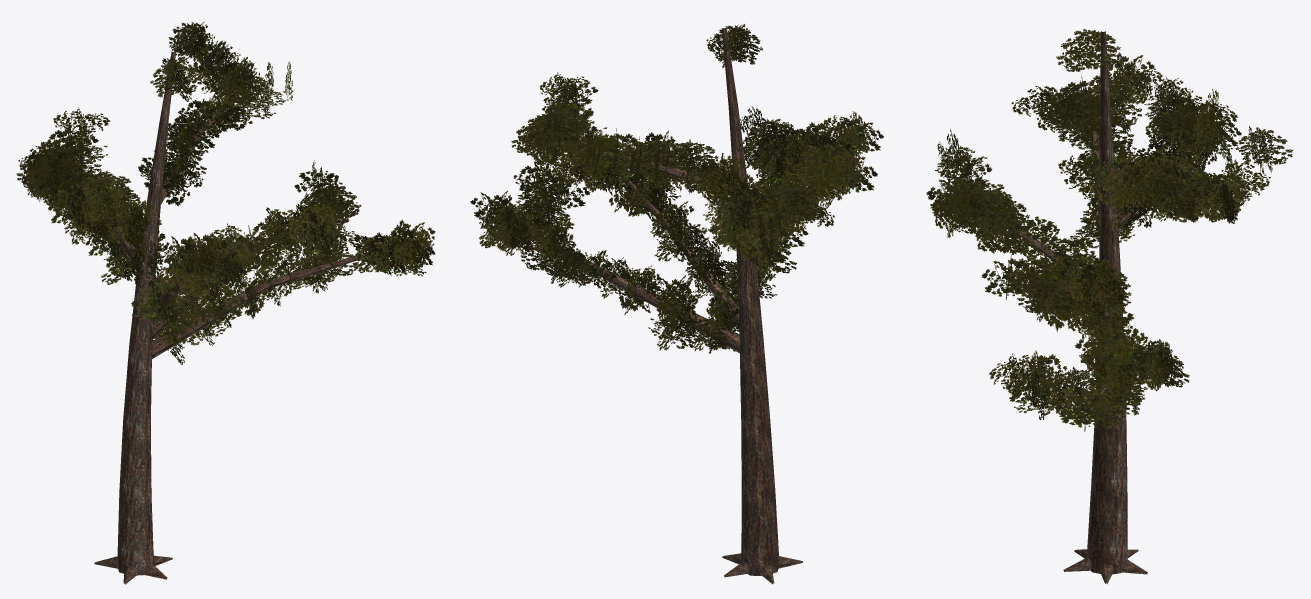
Rendered from tree_3d_04_lod1.glb.
3 views of the same model, side by side, from view 1: azimuth 30°, elevation 25°; view 2: azimuth 150°, elevation 25°; view 3: azimuth 270°, elevation 25° (orthographic). The views are drawn at different scales.
Parts seen in each view (by area): view 1: foliage_cards, wood_geometry; view 2: foliage_cards, wood_geometry; view 3: foliage_cards, wood_geometry.
Part boxes in pixels (x1,y1,x2,y2): foliage_cards: [16, 22, 435, 364]; wood_geometry: [94, 51, 387, 584]; foliage_cards: [470, 24, 883, 353]; wood_geometry: [504, 27, 826, 584]; foliage_cards: [926, 29, 1292, 431]; wood_geometry: [951, 31, 1215, 584].
Bounding box in the file's own units: 9.37 × 11.58 × 7.14.
Materials: 2 (2 with a texture image).
